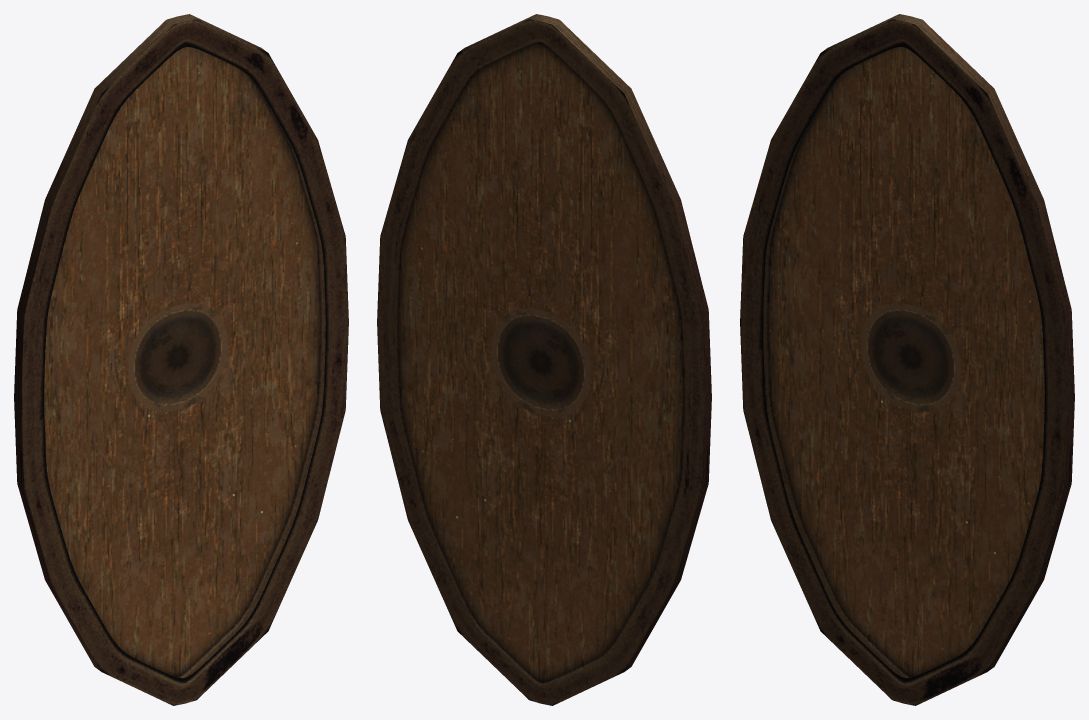
The model's file is shield_oval_celtic_rim.glb.
3 renders of one model, left to right at view 1: azimuth 30°, elevation 25°; view 2: azimuth 150°, elevation 25°; view 3: azimuth 330°, elevation 25°, orthographic.
Visible parts, largest first — view 1: ShieldRim; view 2: ShieldRim; view 3: ShieldRim.
Part boxes in pixels (<box>): ShieldRim: <box>14,14,348,705</box>; ShieldRim: <box>377,14,711,705</box>; ShieldRim: <box>740,14,1074,705</box>.
Bounding box in the file's own units: 0.5602 × 1.11 × 0.0207.
1 material, 1 textured.
